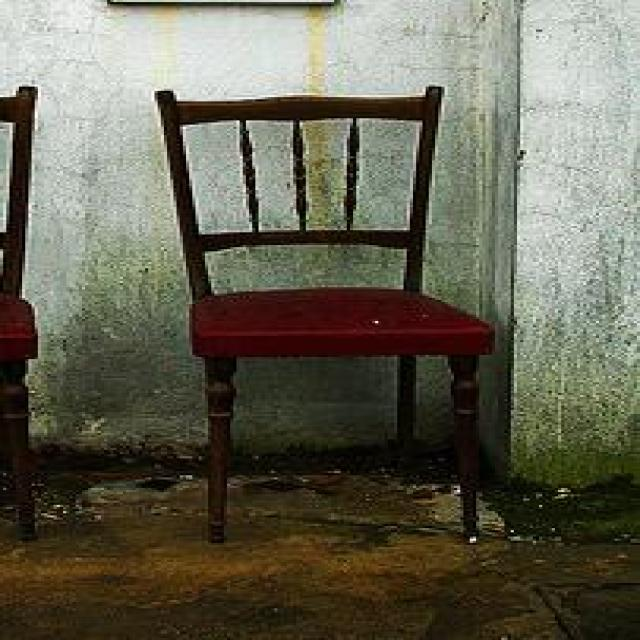chair: (151, 84, 495, 545), (0, 84, 41, 540)
